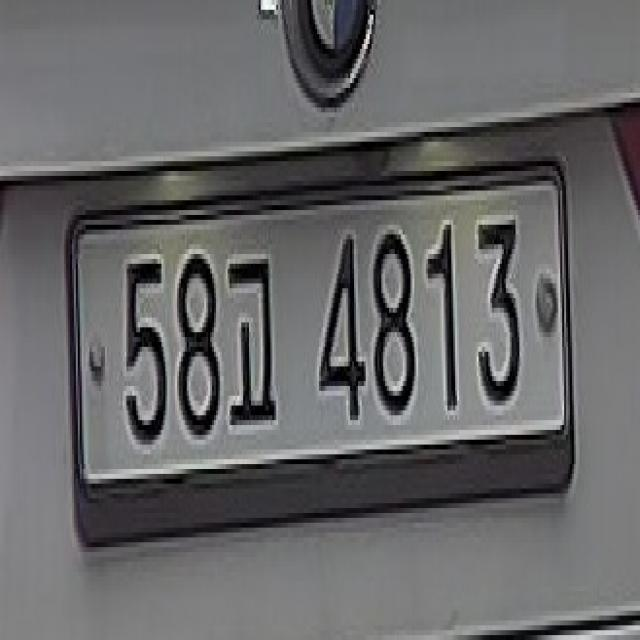1: (428, 210, 463, 428)
3: (473, 211, 523, 410)
4: (316, 222, 369, 434)
5: (116, 242, 168, 448)
8: (372, 221, 420, 417), (178, 242, 220, 444)
go: (226, 241, 284, 448)
license_plate: (54, 145, 586, 593)
